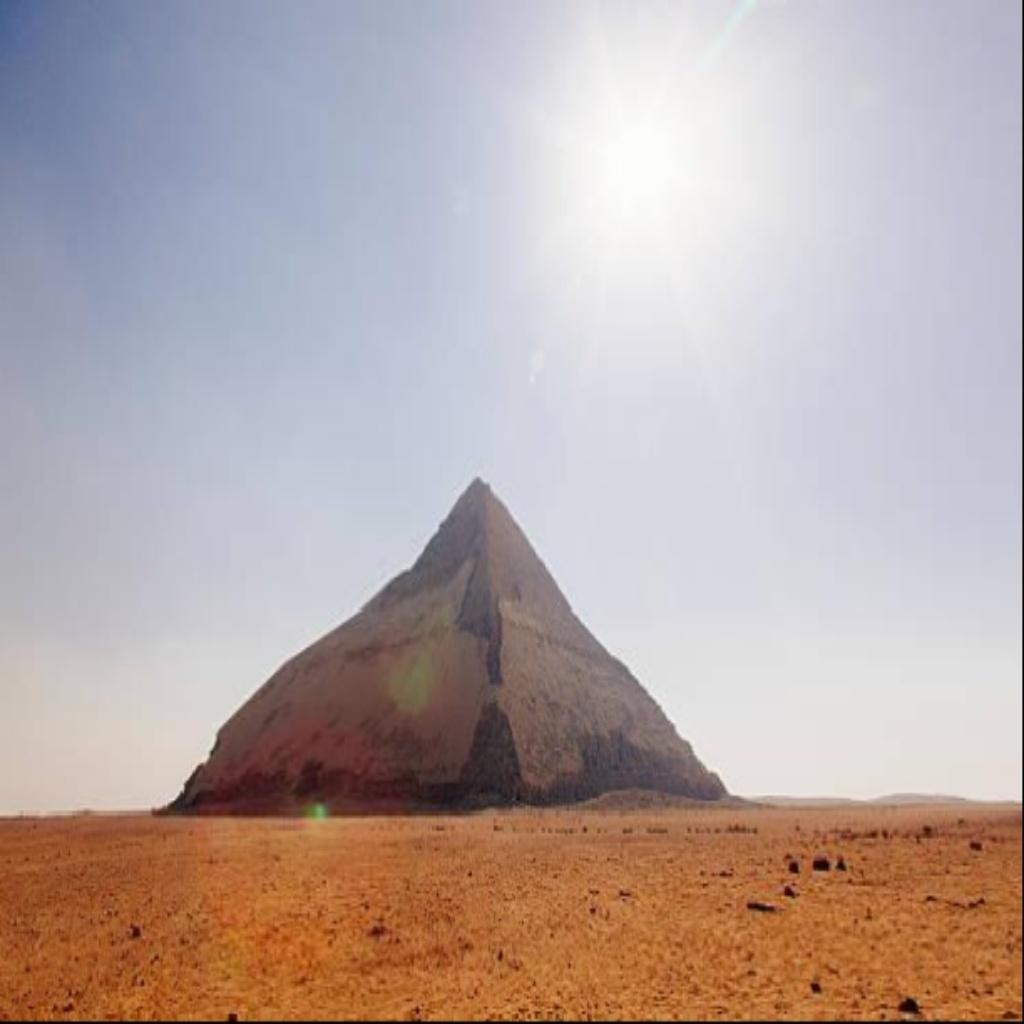Bent Pyramid of King Sneferu: (152, 467, 734, 818)
